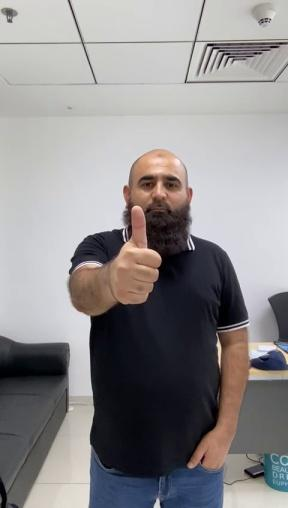thumbs-up: (104, 205, 166, 309)
